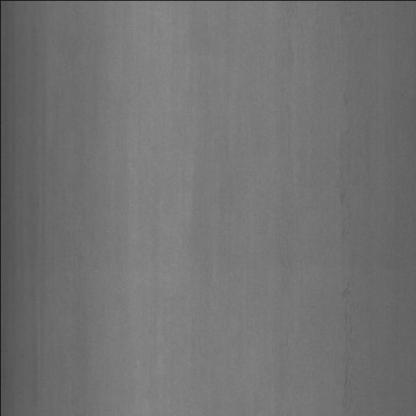silk_spot: (336, 73, 376, 376)
